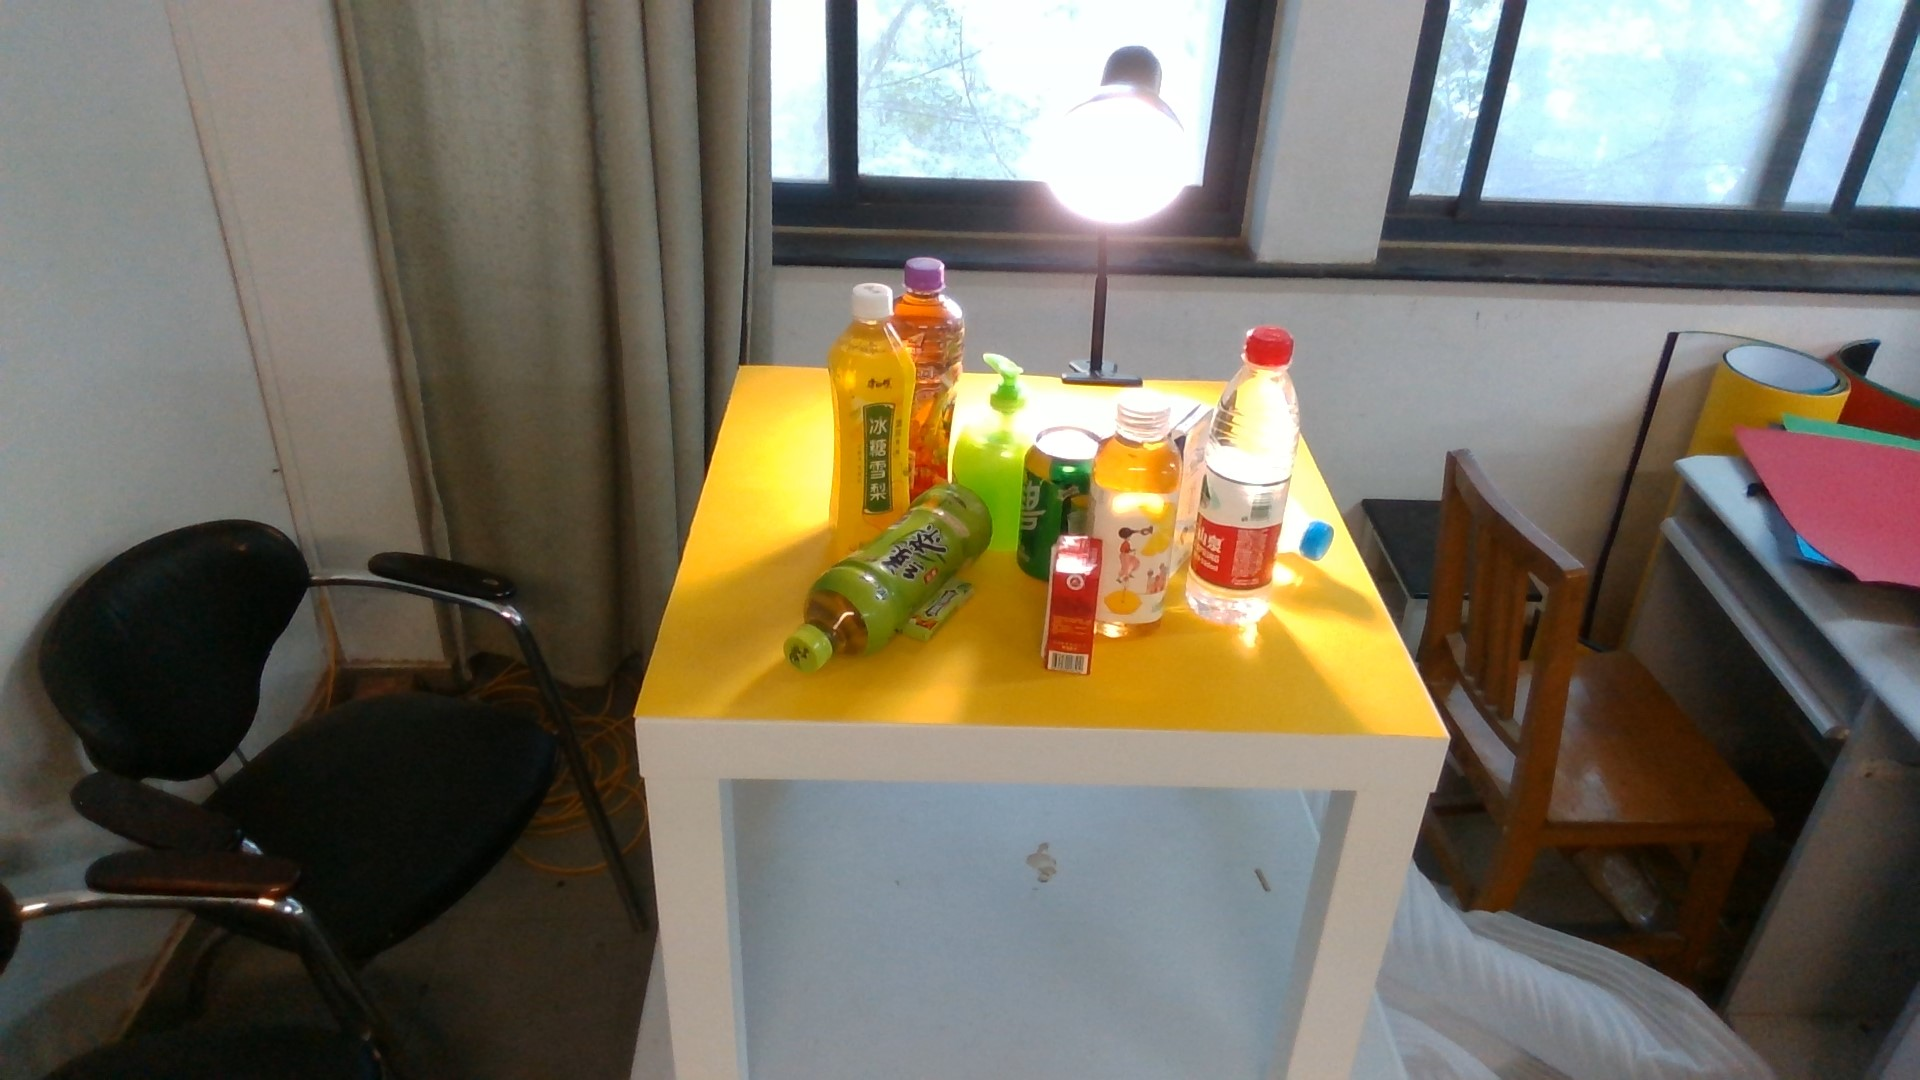BB002: (899, 582, 973, 637)
BB010: (1178, 394, 1208, 502)
BB012: (1044, 535, 1102, 674)
ZA002: (957, 349, 1022, 489)
ZC001: (1025, 425, 1095, 531)
ZC009: (907, 253, 965, 475)
ZC010: (783, 520, 898, 670)
ZC011: (827, 280, 909, 521)
ZC012: (1105, 392, 1179, 644)
ZC014: (1211, 324, 1302, 628)
ZC019: (1286, 502, 1332, 562)
